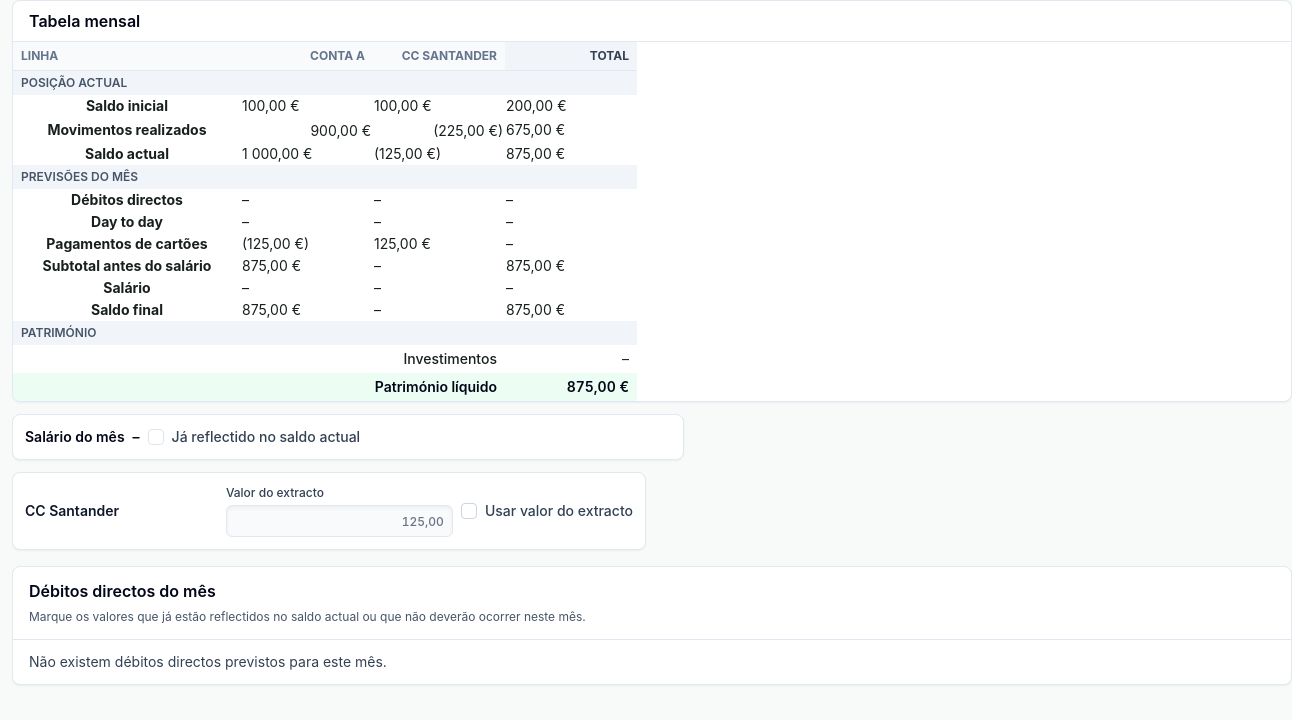
Scenario: MonthlyBudgetTable › enables, updates and autosaves a credit card statement override in a future month
Expected: the field named "Valor do extracto — CC Santander" is disabled, 226,505 -> 453,537
Click the checkbox named "Usar valor do extracto — CC Santander" at (469, 511), box 461,503 -> 477,519
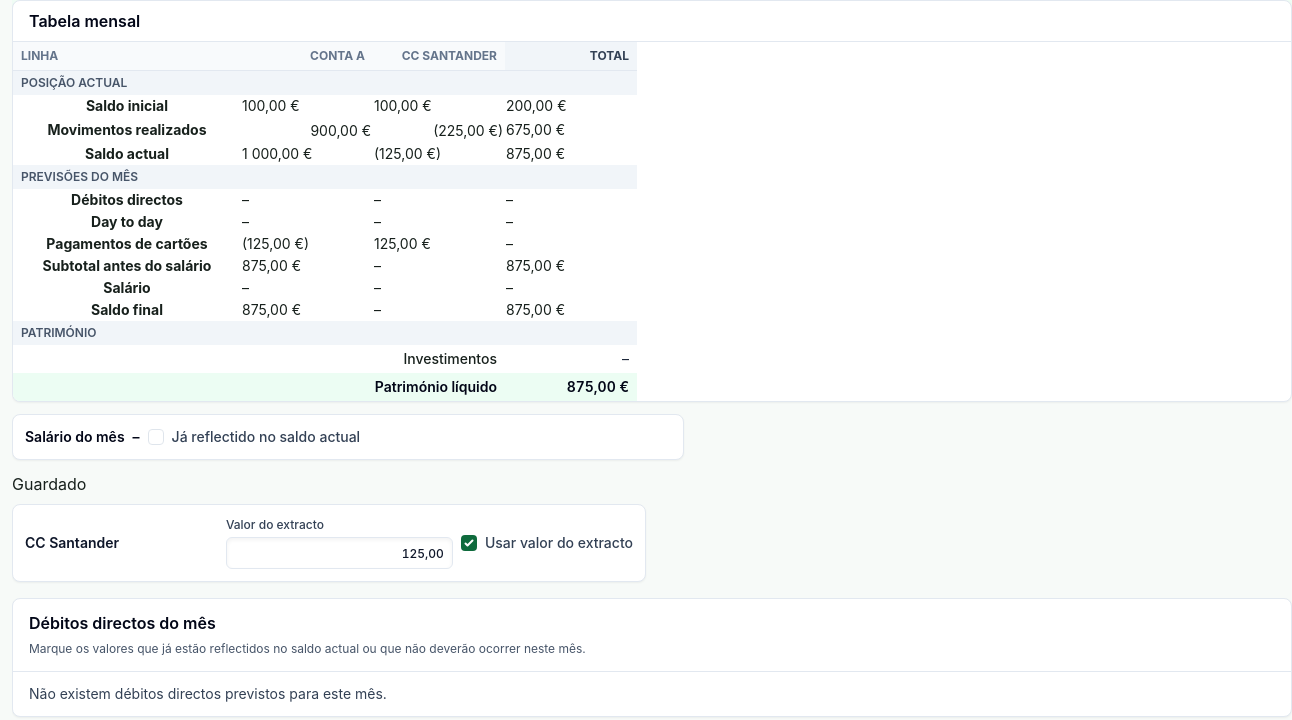
Expected: the checkbox named "Usar valor do extracto — CC Santander" is checked, 461,535 -> 477,551
Expected: the field named "Valor do extracto — CC Santander" is enabled
Expected: the field named "Valor do extracto — CC Santander" holds "125,00"
Type "80,00" into the field named "Valor do extracto — CC Santander" at (339, 553), box 226,537 -> 453,569
Wait 650 ms
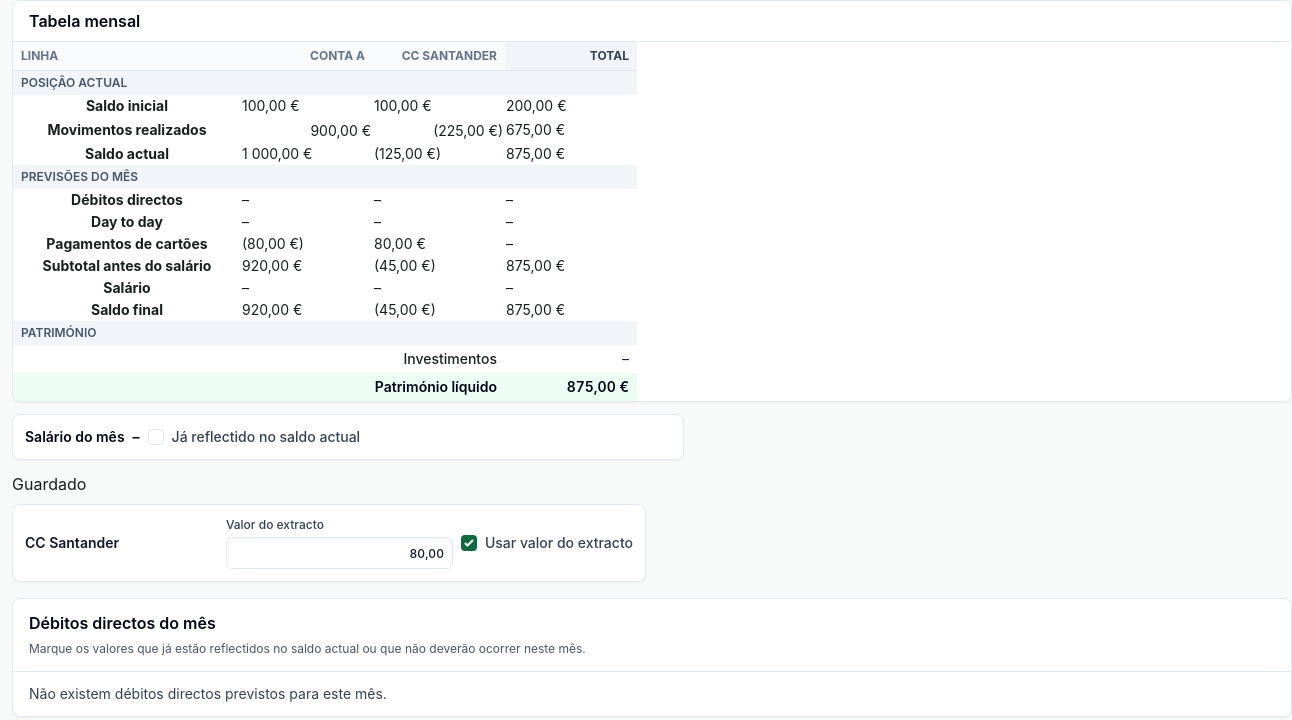
Expected: the text "(80,00 €)" is shown, 241,233 -> 373,255
Expected: the text "80,00 €" is shown, 373,233 -> 505,255
